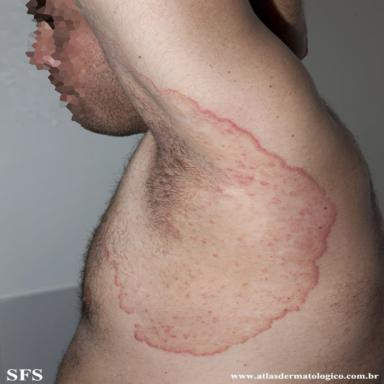Tinea-Corporis: (92, 25, 339, 358)
